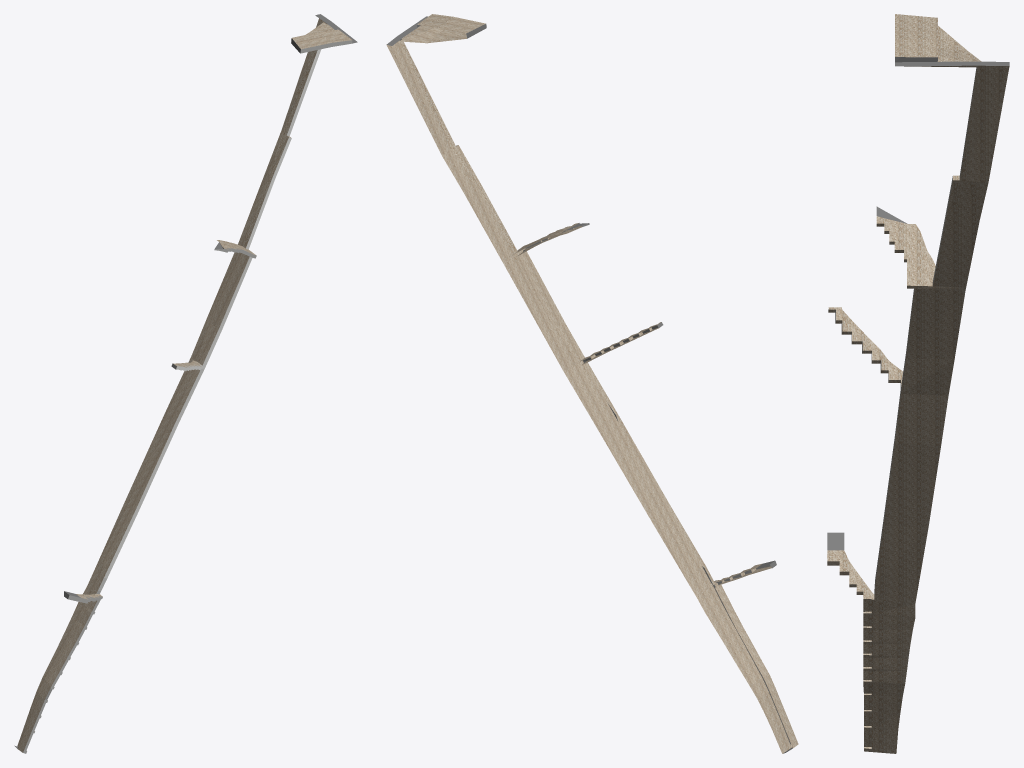
File: Pika_jala_myyr_2.obj
The picture shows the model from 3 angles, left to right: view 1: azimuth 30°, elevation 25°; view 2: azimuth 150°, elevation 25°; view 3: azimuth 270°, elevation 25°; orthographic projection. The views are drawn at different scales.
Visible parts, largest first — view 1: Pika_jala_myyr_2; view 2: Pika_jala_myyr_2; view 3: Pika_jala_myyr_2.
Part boxes in pixels (x1,y1,x2,y2): Pika_jala_myyr_2: (14, 14, 357, 753); Pika_jala_myyr_2: (386, 14, 798, 753); Pika_jala_myyr_2: (827, 14, 1009, 753).
Size of the model in its own units: 75.26 by 131 by 22.73.
Materials: 3 (2 with a texture image).
